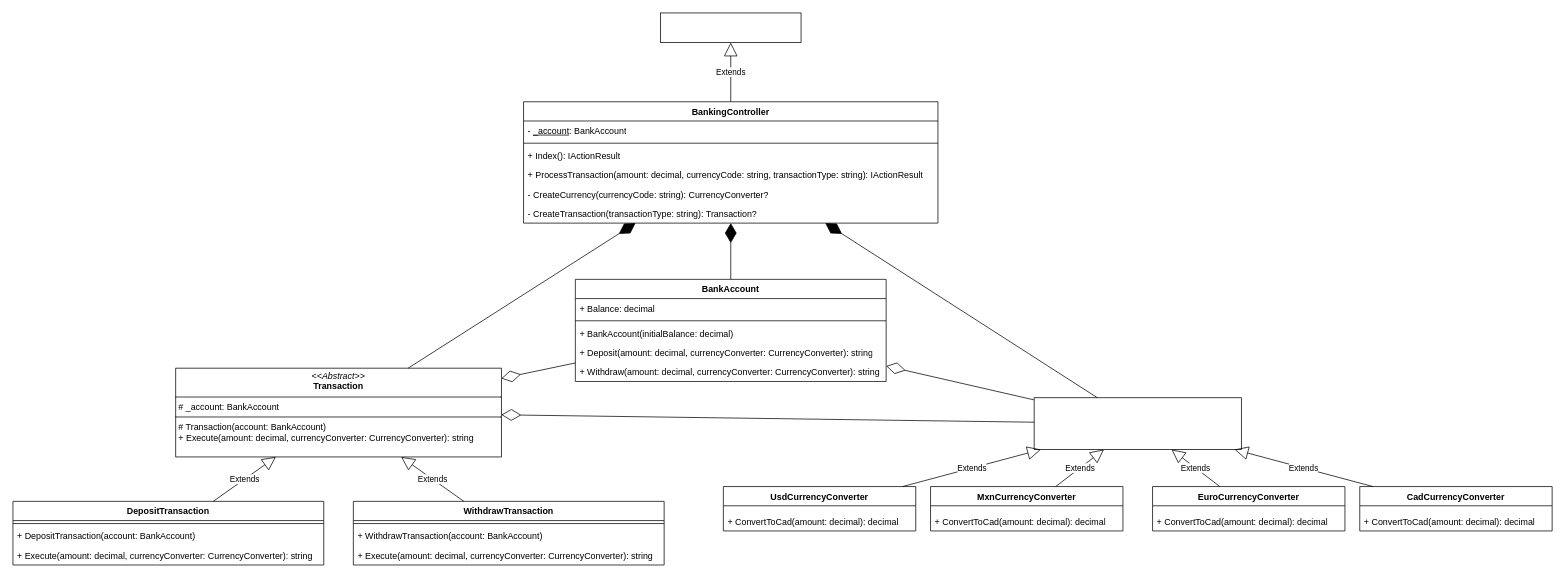
Image size: 1565x580. Some labels were removed from this diagram. The centre of each missing label's shape, as x and y in pixels:
<<Abstract>> Controller: point (730, 27)
<<Abstract>> CurrencyConverter + ConvertToCad(amount: decimal): decimal: point (1137, 423)
